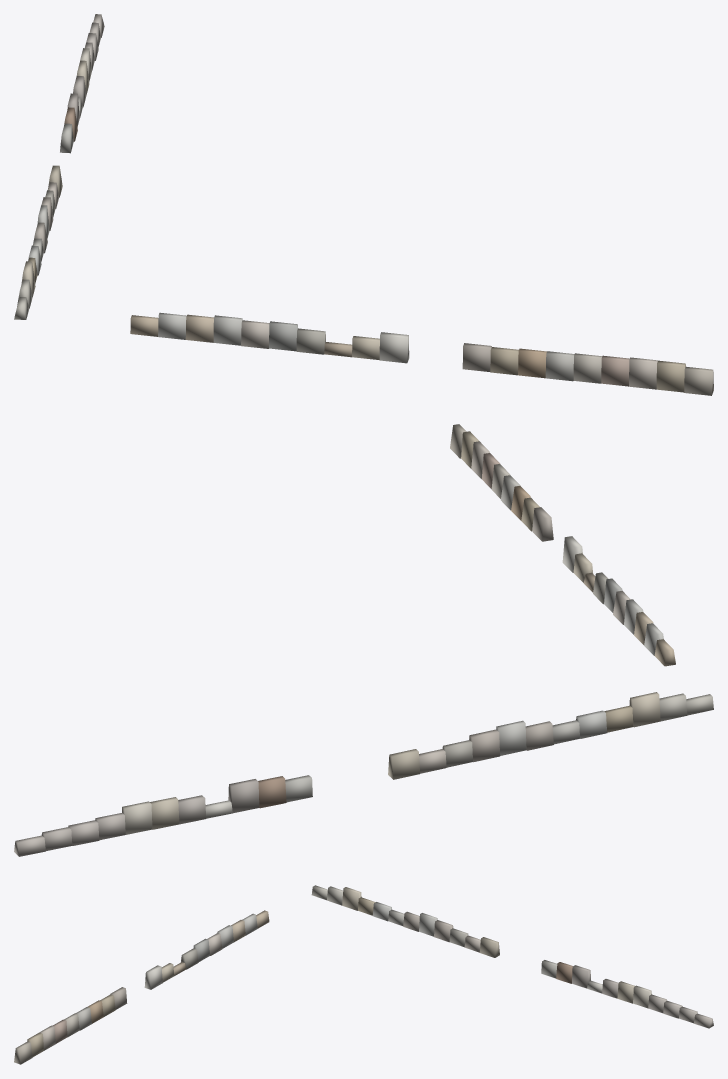
The model's file is farm_8_6_collision.glb.
3 views of the same model, one above another, from view 1: azimuth 30°, elevation 25°; view 2: azimuth 150°, elevation 25°; view 3: azimuth 270°, elevation 25° (orthographic). The views are drawn at different scales.
Parts seen in each view (by area): view 1: geometry_0; view 2: geometry_0; view 3: geometry_0.
Part boxes in pixels (bbox=[...]): geometry_0: bbox=[14, 14, 713, 395]; geometry_0: bbox=[14, 424, 713, 856]; geometry_0: bbox=[14, 885, 713, 1064].
Bounding box in the file's own units: 30.32 × 2.95 × 57.66.
